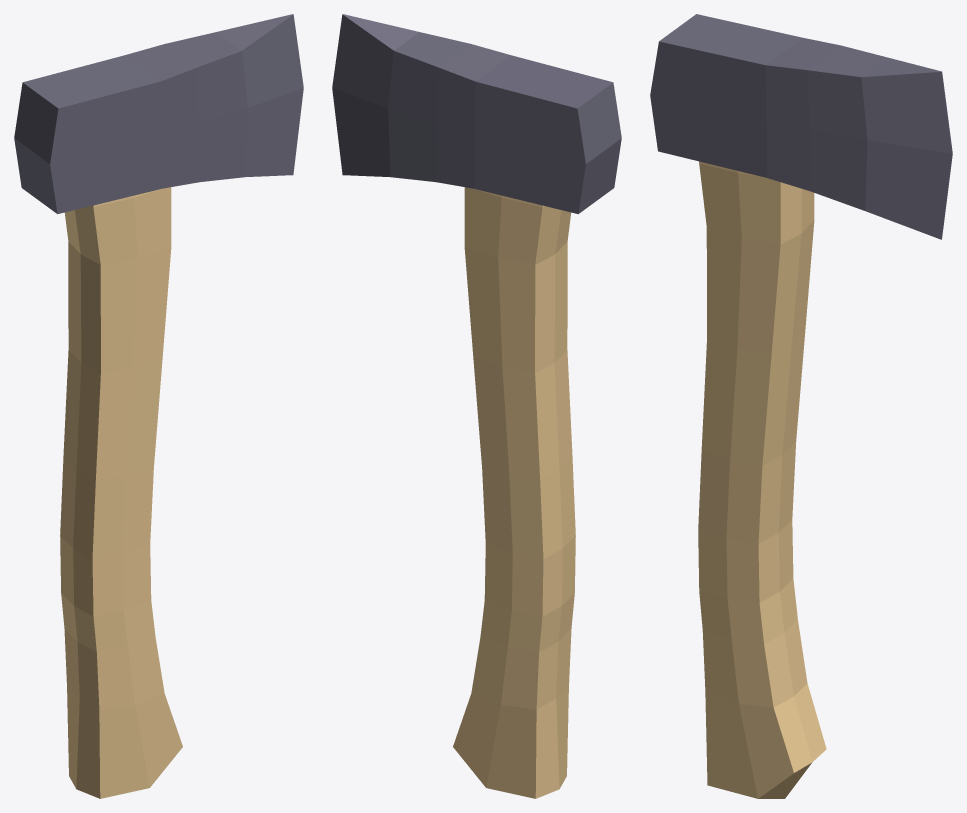
The model's file is Axe.fbx.
3 views of the same model, side by side, from view 1: azimuth 30°, elevation 25°; view 2: azimuth 150°, elevation 25°; view 3: azimuth 330°, elevation 25° (orthographic). The views are drawn at different scales.
Parts seen in each view (by area): view 1: Cube, Cube.001; view 2: Cube, Cube.001; view 3: Cube, Cube.001.
Boxes of the visible parts, x1,y1,x2,y2 form: Cube: [60, 187, 182, 798]; Cube.001: [14, 14, 303, 214]; Cube: [453, 187, 575, 798]; Cube.001: [332, 14, 621, 214]; Cube: [698, 161, 826, 798]; Cube.001: [650, 14, 952, 239].
Bounding box in the file's own units: 873 × 2251 × 200.
